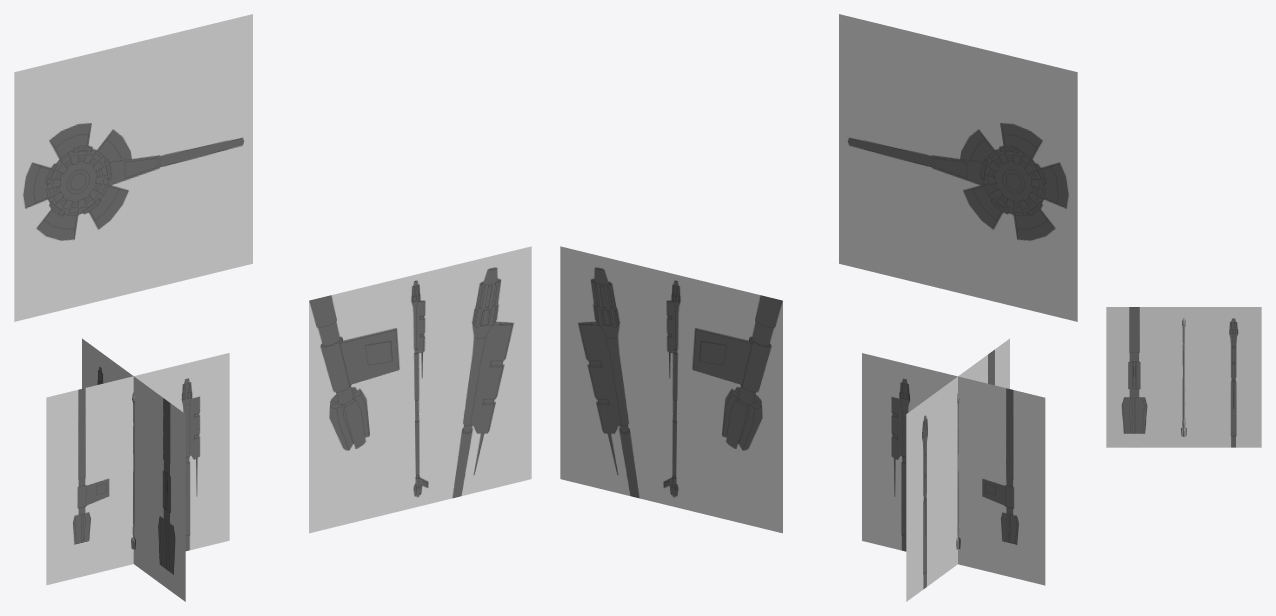
The model's file is Prop One.fbx.
The picture shows the model from 3 angles, left to right: view 1: azimuth 30°, elevation 25°; view 2: azimuth 150°, elevation 25°; view 3: azimuth 270°, elevation 25°; orthographic projection. The views are drawn at different scales.
Visible parts, largest first — view 1: pPlane4, pPlane3, pPlane1, pPlane2; view 2: pPlane4, pPlane3, pPlane1, pPlane2; view 3: pPlane2, pCube4.
Boxes of the visible parts, x1,y1,x2,y2 form: pPlane4: (14, 14, 252, 321); pPlane3: (309, 246, 531, 533); pPlane1: (46, 353, 229, 585); pPlane2: (82, 338, 185, 601); pPlane4: (839, 14, 1077, 321); pPlane3: (560, 246, 782, 533); pPlane1: (862, 353, 1045, 585); pPlane2: (906, 338, 1009, 601); pPlane2: (1106, 307, 1261, 447); pCube4: (1181, 318, 1186, 437).
Size of the model in its own units: 38.9 by 38.31 by 13.5.
5 materials, 4 textured.
